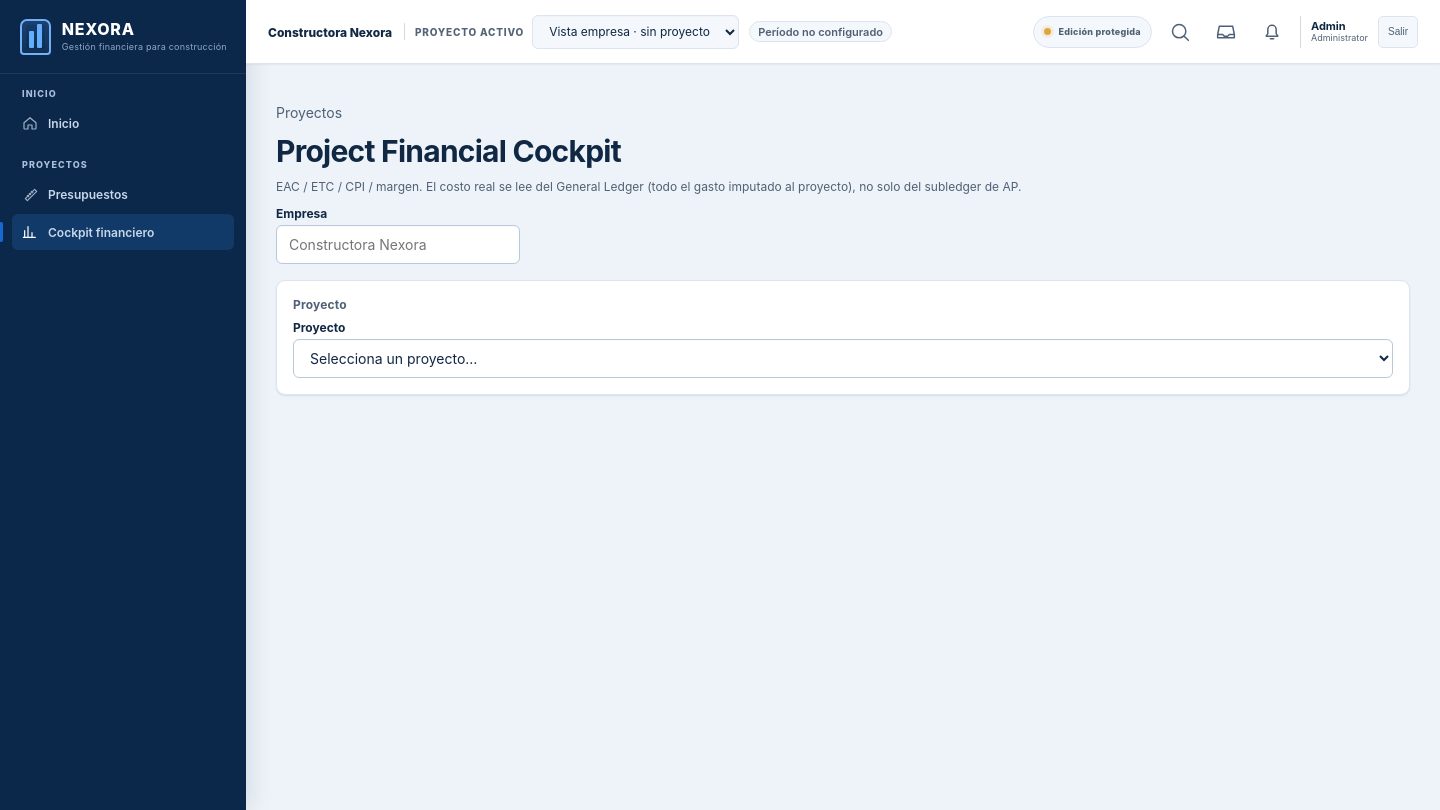
Test case: ProjectCockpitPage › shows EAC/ETC/CPI/margin from the backend
The width and height of the screenshot is (1440, 810).
Select "CKP-001 · Torre Cockpit" in the dropdown labelled "Proyecto": [843, 359] box [293, 339, 1393, 378]
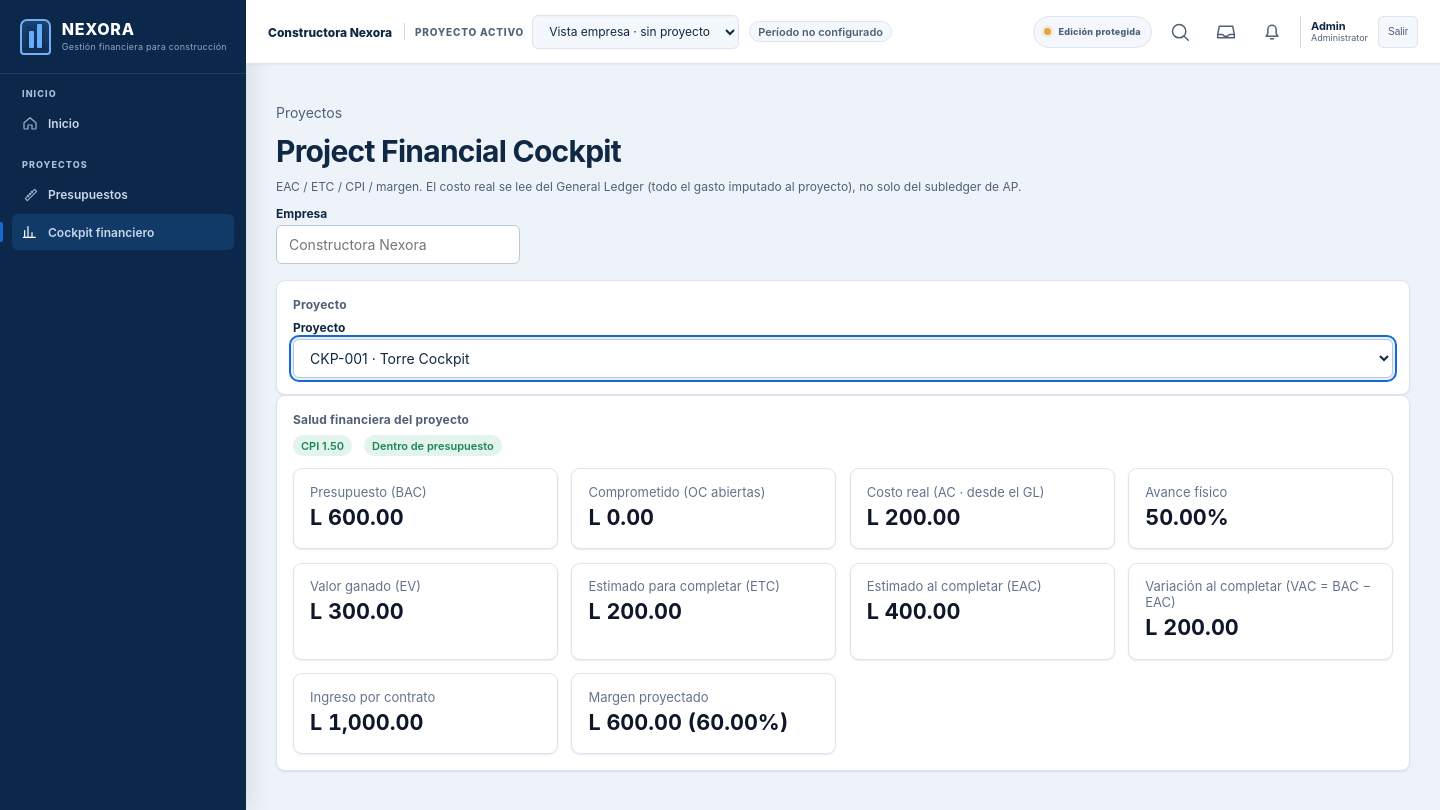
Expected: the text "Estimado al completar (EAC)" is shown, [867, 578, 1042, 594]
Expected: the text "CPI 1.50" is shown, [293, 435, 352, 456]
Expected: the text "Dentro de presupuesto" is shown, [364, 435, 502, 456]
